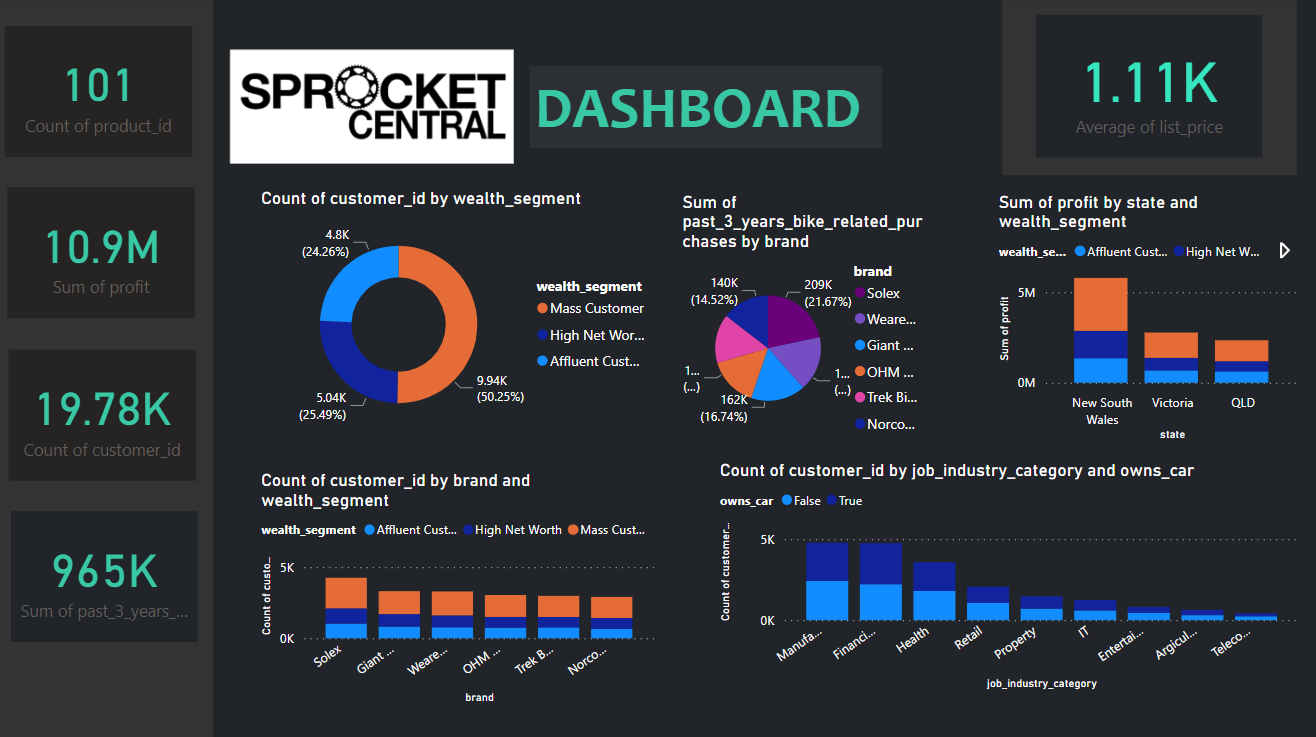

The dashboard page shown, as its layout file describes it:
{"tool":"powerbi","page":{"name":"Page 4","canvas":[1280,720],"ordinal":3},"visuals":[{"type":"shape","box":[0,0,209.8,719.8],"z":0},{"type":"shape","box":[970.7,0,283.8,172.8],"z":7000},{"type":"image","box":[219.5,28.9,284.6,155.6],"z":8000},{"type":"textbox","box":[515,67.5,340.1,79.6],"z":9000},{"type":"card","fields":{"Values":["Sum(merged_data (2).profit)"]},"box":[10.3,184.9,181,126],"z":10000},{"type":"card","fields":{"Values":["CountNonNull(merged_data (2).customer_id)"]},"box":[12.4,340.9,181,126],"z":11000},{"type":"card","fields":{"Values":["Count(merged_data (2).product_id)"]},"box":[8.2,28.8,181,126.1],"z":12000},{"type":"card","fields":{"Values":["Sum(merged_data (2).past_3_years_bike_related_purchases)"]},"box":[14.5,496.9,180,126.6],"z":13000},{"type":"card","fields":{"Values":["Avg(merged_data (2).list_price)"]},"box":[1003.4,18.1,218.3,137.5],"z":13001},{"type":"pieChart","fields":{"Category":["merged_data (2).brand"],"Y":["Sum(merged_data (2).past_3_years_bike_related_purchases)"]},"box":[657.3,188.1,246,246],"z":13002},{"type":"donutChart","fields":{"Category":["merged_data (2).wealth_segment"],"Y":["CountNonNull(merged_data (2).customer_id)"]},"box":[250.9,184.5,389.5,246],"z":13003},{"type":"columnChart","fields":{"Series":["merged_data (2).wealth_segment"],"Y":["Sum(merged_data (2).profit)"],"Category":["merged_data (2).state"]},"box":[962.4,188.1,300.3,246],"z":13004},{"type":"columnChart","fields":{"Category":["merged_data (2).brand"],"Series":["merged_data (2).wealth_segment"],"Y":["CountNonNull(merged_data (2).customer_id)"]},"box":[250.9,457.1,389.5,230.4],"z":13005},{"type":"columnChart","fields":{"Category":["merged_data (2).job_industry_category"],"Y":["CountNonNull(merged_data (2).customer_id)"],"Series":["merged_data (2).owns_car"]},"box":[693.5,447.4,569.2,226.7],"z":13006}]}

Visuals, with their boxes in screenshot pixels (x1, y1, x2, y2), scaled from the page's 1280x720 canvas onto the 1316x737 screenshot:
shape: [x1=0, y1=0, x2=216, y2=736]
shape: [x1=998, y1=0, x2=1290, y2=177]
image: [x1=226, y1=30, x2=518, y2=189]
textbox: [x1=529, y1=69, x2=879, y2=151]
card - Sum(merged_data (2).profit): [x1=11, y1=189, x2=197, y2=318]
card - CountNonNull(merged_data (2).customer_id): [x1=13, y1=349, x2=199, y2=478]
card - Count(merged_data (2).product_id): [x1=8, y1=29, x2=195, y2=159]
card - Sum(merged_data (2).past_3_years_bike_related_purchases): [x1=15, y1=509, x2=200, y2=638]
card - Avg(merged_data (2).list_price): [x1=1032, y1=19, x2=1256, y2=159]
pieChart - merged_data (2).brand x Sum(merged_data (2).past_3_years_bike_related_purchases): [x1=676, y1=193, x2=929, y2=444]
donutChart - merged_data (2).wealth_segment x CountNonNull(merged_data (2).customer_id): [x1=258, y1=189, x2=658, y2=441]
columnChart - merged_data (2).wealth_segment x Sum(merged_data (2).profit): [x1=989, y1=193, x2=1298, y2=444]
columnChart - merged_data (2).brand x merged_data (2).wealth_segment: [x1=258, y1=468, x2=658, y2=704]
columnChart - merged_data (2).job_industry_category x CountNonNull(merged_data (2).customer_id): [x1=713, y1=458, x2=1298, y2=690]
